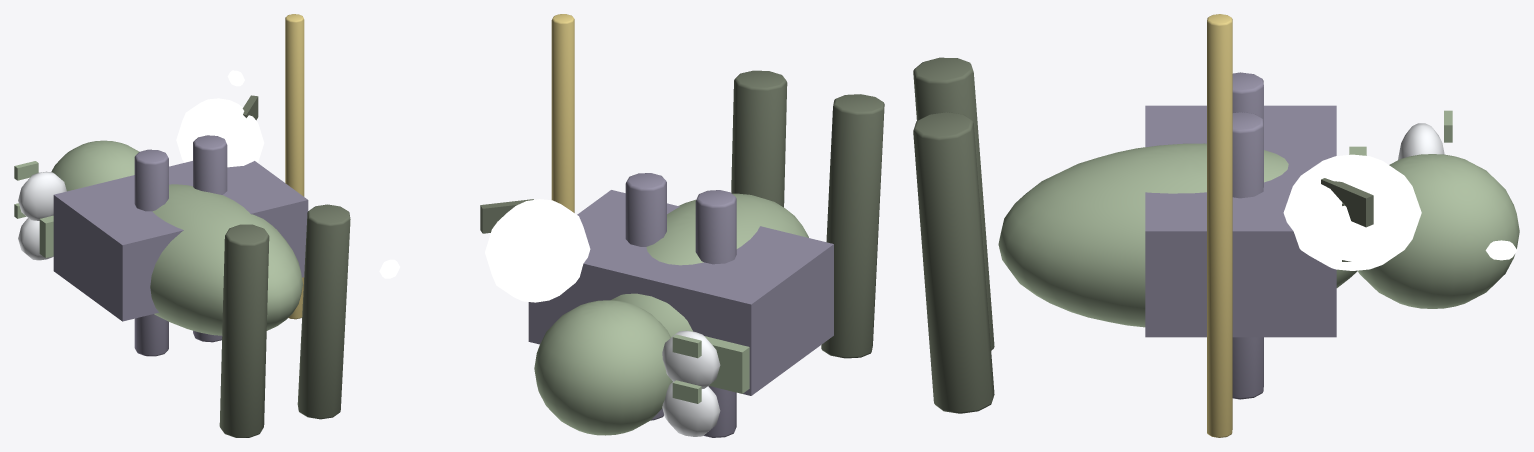
File: healer.glb
3 views of the same model, side by side, from view 1: azimuth 30°, elevation 25°; view 2: azimuth 150°, elevation 25°; view 3: azimuth 270°, elevation 25° (orthographic). The views are drawn at different scales.
Visible parts, largest first — view 1: chest, torso, leg, leg.001, lantern_orb, healer_staff, arm, head, arm.001, eye.001, eye, mouth_band (+1 smaller); view 2: chest, head, leg, lantern_orb, leg.001, torso, healer_staff, arm, arm.001, eye.001, eye, mouth_band (+3 smaller); view 3: chest, torso, leg.001, head, lantern_orb, healer_staff, arm.001, leg, arm, cross, eye.001.
Part boxes in pixels (x1,y1,x2,y2): chest: [53, 161, 308, 321]; torso: [150, 184, 302, 335]; leg: [219, 224, 269, 437]; leg.001: [297, 204, 350, 419]; lantern_orb: [176, 98, 264, 167]; healer_staff: [285, 14, 304, 319]; arm: [134, 149, 168, 356]; head: [51, 140, 139, 191]; arm.001: [193, 135, 227, 342]; eye.001: [18, 171, 66, 220]; eye: [18, 218, 53, 260]; mouth_band: [39, 215, 53, 257]; chest: [528, 190, 833, 395]; head: [534, 300, 672, 435]; leg: [821, 94, 884, 358]; lantern_orb: [485, 199, 590, 302]; leg.001: [731, 70, 787, 207]; torso: [611, 193, 808, 337]; healer_staff: [551, 14, 574, 212]; arm: [695, 190, 736, 437]; arm.001: [625, 173, 666, 420]; eye.001: [662, 330, 720, 388]; eye: [662, 382, 720, 436]; mouth_band: [704, 336, 749, 393]; chest: [1145, 105, 1336, 337]; torso: [998, 143, 1357, 327]; leg.001: [913, 112, 994, 413]; head: [1358, 154, 1519, 308]; lantern_orb: [1283, 154, 1421, 270]; healer_staff: [1207, 14, 1232, 437]; arm.001: [1232, 112, 1263, 399]; leg: [913, 57, 994, 350]; arm: [1232, 72, 1263, 120]; cross: [1321, 178, 1373, 227]; eye.001: [1398, 123, 1444, 159].
Bounding box in the file's own units: 0.76 × 0.8929 × 1.14.
